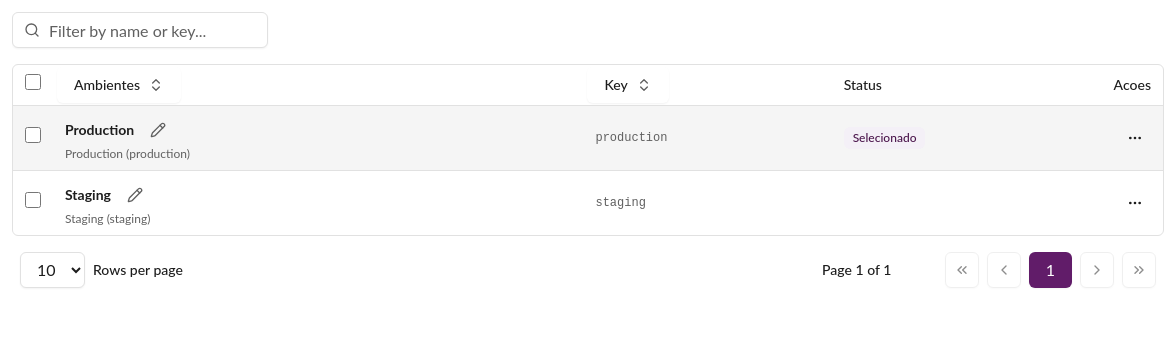
Test case: Environments pages › renames environments and shows mutation errors
This screenshot has width=1164, height=353.
Step 1. Click the button named "Editar Production" → [158, 130], box [142,114,174,146]
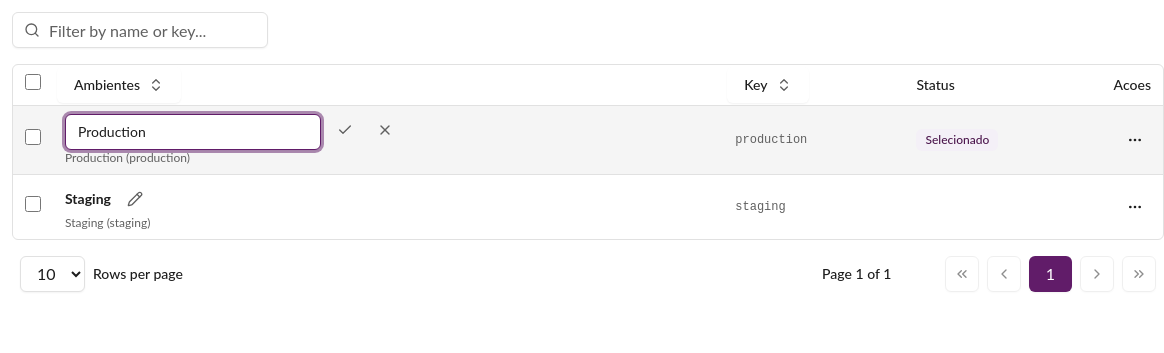
Step 2. Replace the text in the field named "Nome" with "Prod renamed" → [193, 132], box [65,114,321,150]
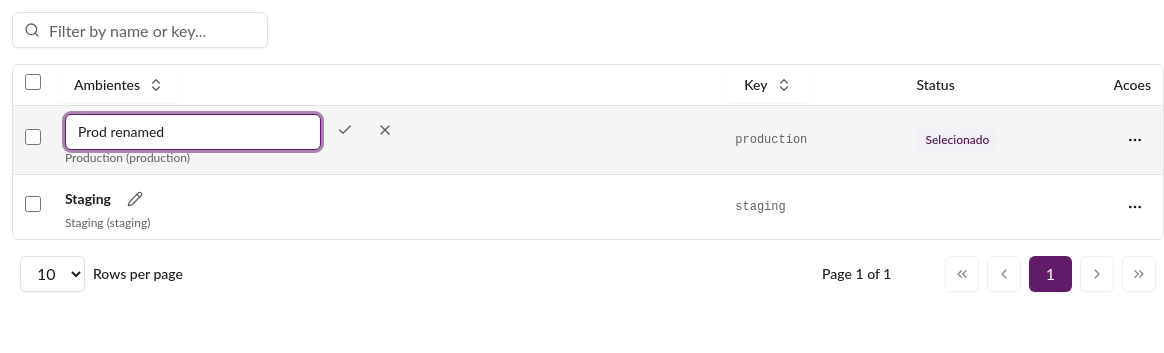
Step 3. Click the button named "Salvar nome" → [345, 130], box [329,114,361,146]
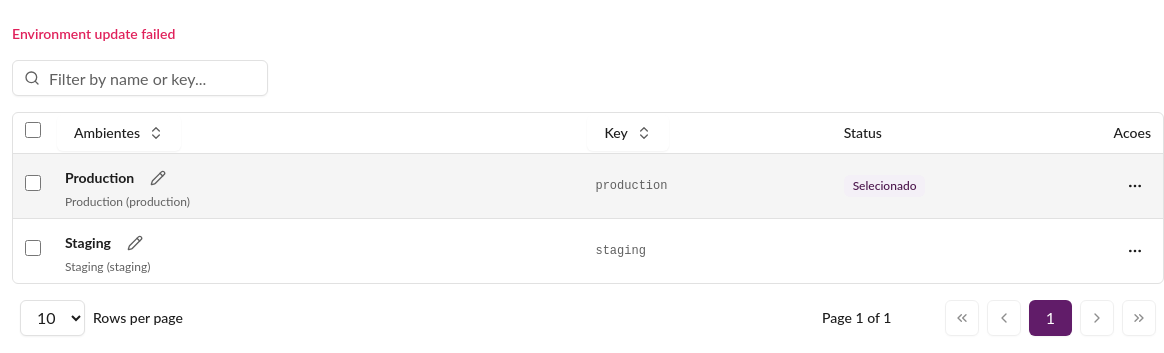
expect the text "Environment update failed" is shown: met, box [12,25,175,42]
